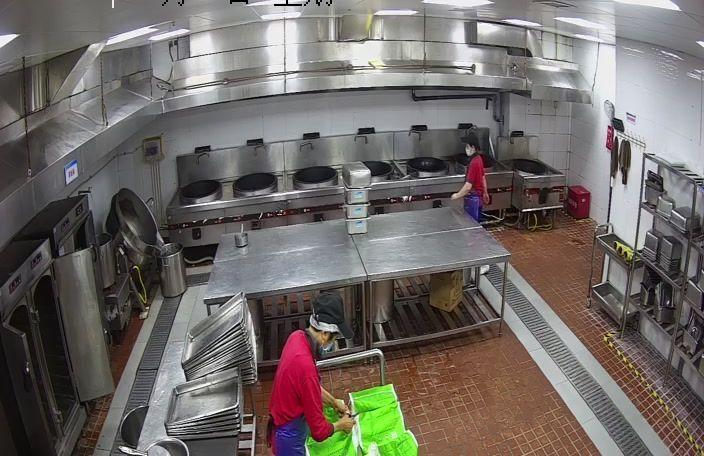no_apron: (333, 415, 354, 435), (328, 397, 352, 414)
